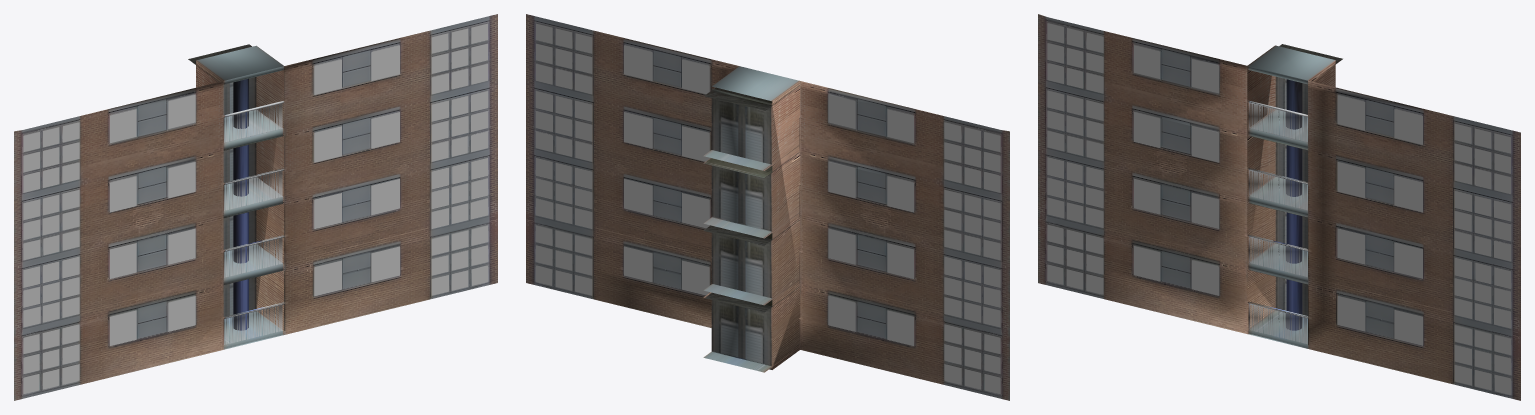
The model's file is apartment_block7.obj.
3 renders of one model, left to right at view 1: azimuth 30°, elevation 25°; view 2: azimuth 150°, elevation 25°; view 3: azimuth 330°, elevation 25°, orthographic.
Parts seen in each view (by area): view 1: apartment_block7; view 2: apartment_block7; view 3: apartment_block7.
Part boxes in pixels (x1=…): apartment_block7: x1=14, y1=14, x2=497, y2=400; apartment_block7: x1=526, y1=14, x2=1009, y2=400; apartment_block7: x1=1038, y1=14, x2=1520, y2=400.
Bounding box in the file's own units: 5 × 2.66 × 0.6461.
